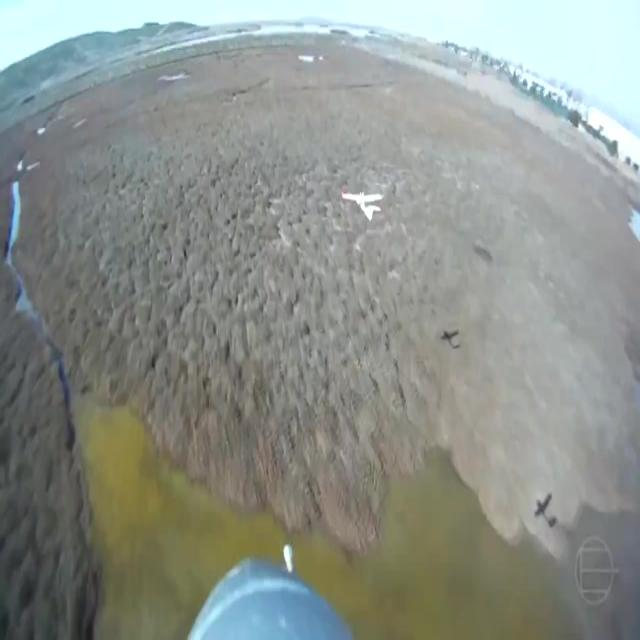iha: (341, 191, 383, 222)
